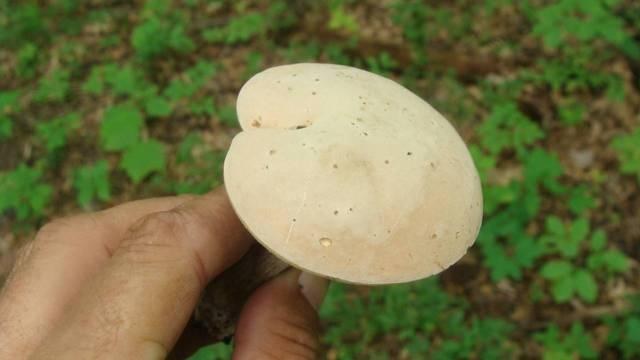Edible Mushroom: (221, 60, 484, 288)
